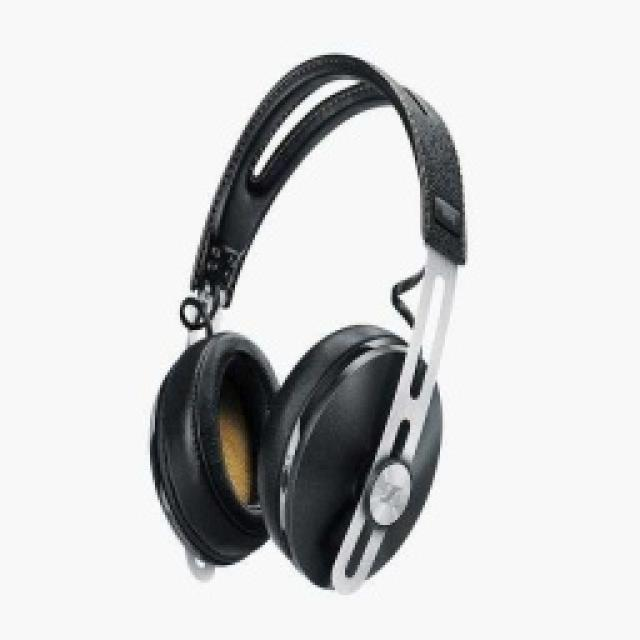headphones: (148, 50, 468, 592)
